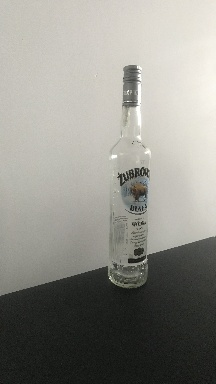butelka: (106, 62, 152, 291)
